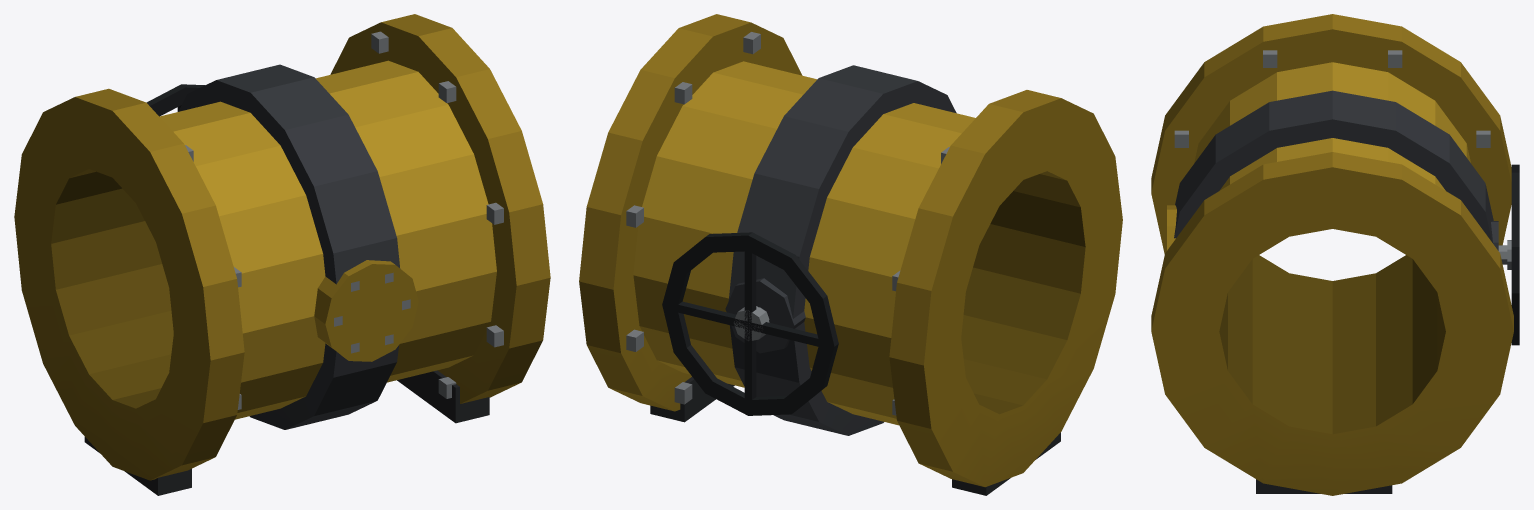
File: pipe.valve.yellow.glb
3 views of the same model, side by side, from view 1: azimuth 30°, elevation 25°; view 2: azimuth 150°, elevation 25°; view 3: azimuth 270°, elevation 25° (orthographic). The views are drawn at different scales.
Parts seen in each view (by area): view 1: pipe_valve_yellow; view 2: pipe_valve_yellow; view 3: pipe_valve_yellow.
Boxes of the visible parts, <box> form: pipe_valve_yellow: <box>14,14,550,495</box>; pipe_valve_yellow: <box>579,14,1122,495</box>; pipe_valve_yellow: <box>1151,14,1519,495</box>.
Size of what is drawn, in the model's own units: 1.6 by 1.6 by 1.62.
